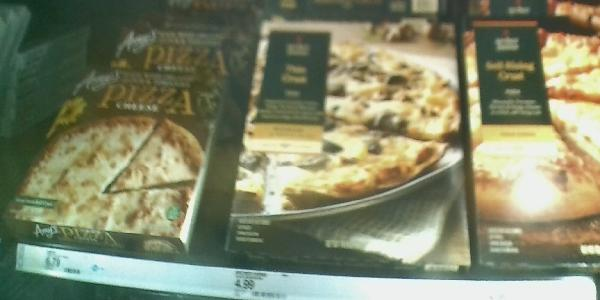pizza1: (225, 12, 473, 267), (1, 59, 234, 259)
